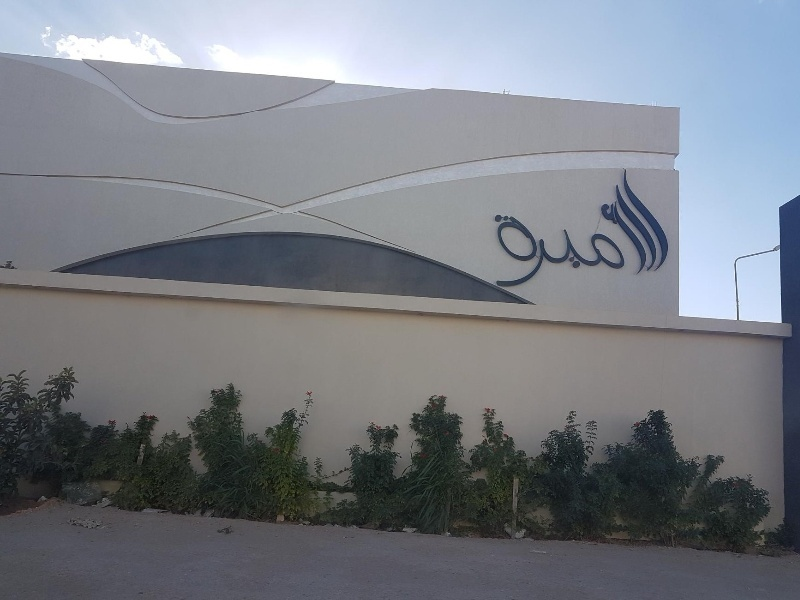text: (497, 168, 512, 288), (513, 168, 528, 288), (529, 168, 544, 288), (545, 168, 560, 288), (561, 168, 576, 288), (577, 168, 592, 288), (593, 168, 608, 288), (609, 168, 624, 288), (625, 168, 640, 288), (641, 168, 656, 288), (657, 168, 671, 288), (495, 168, 496, 288)
